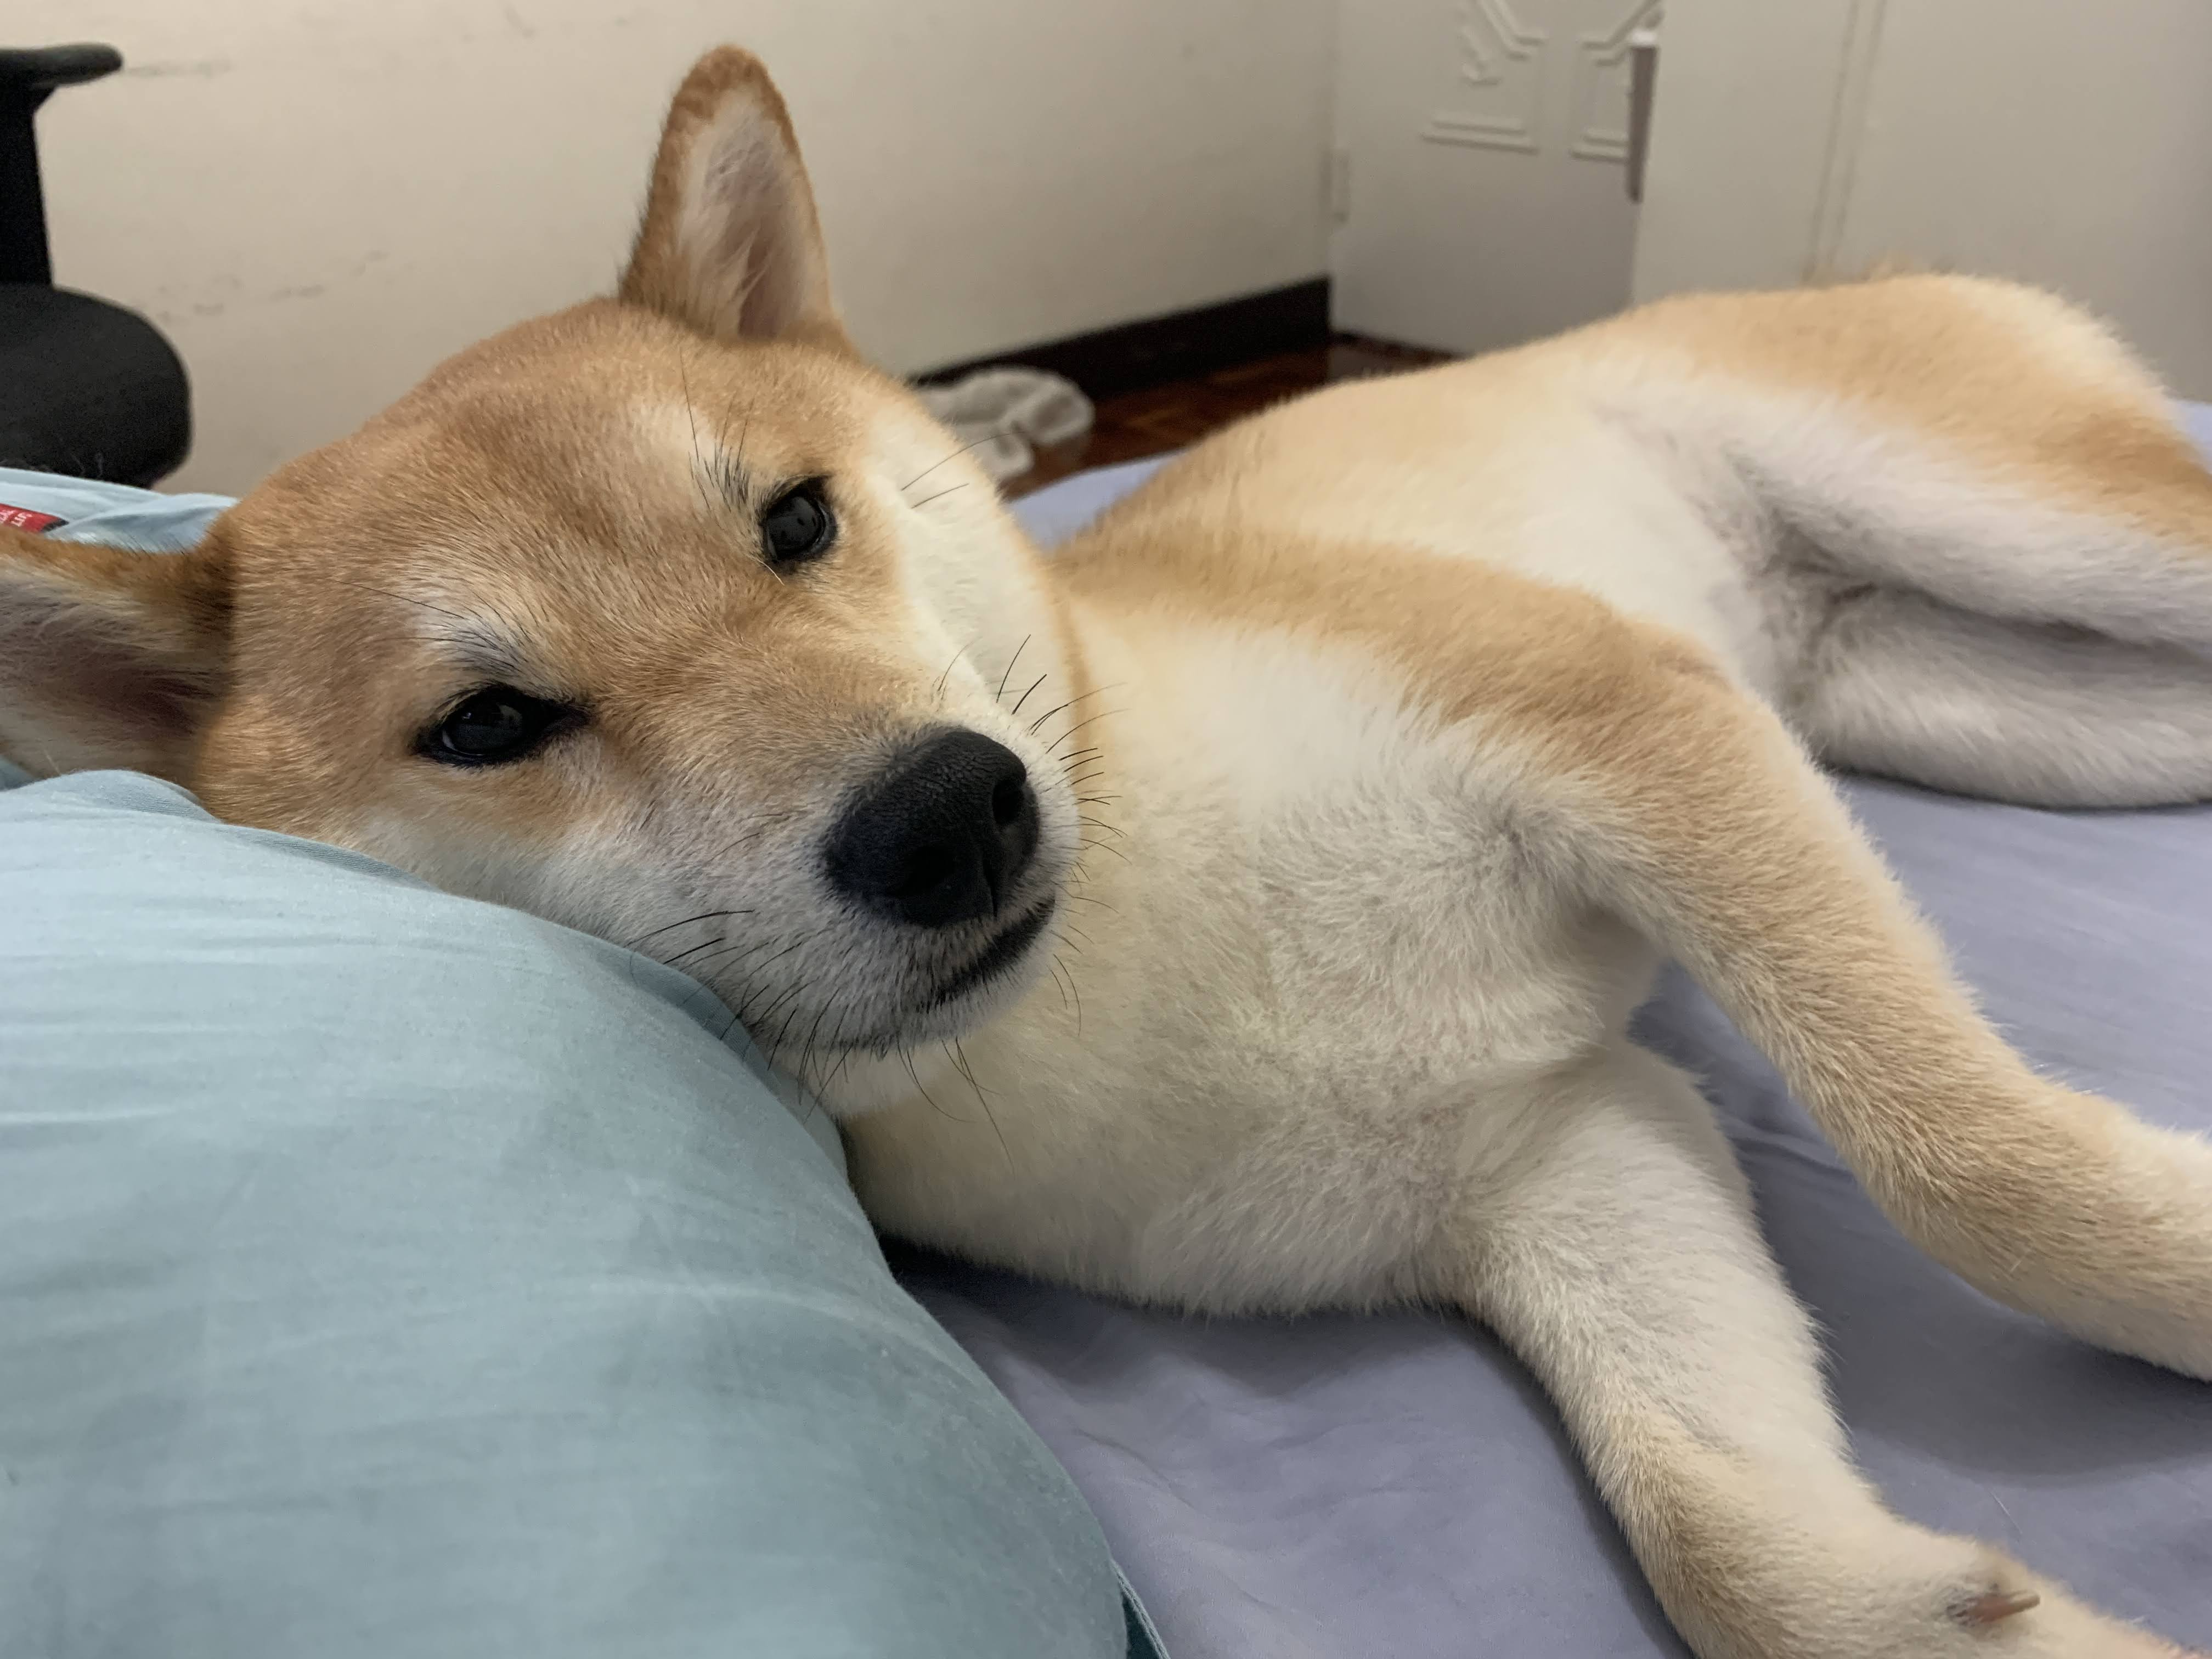Get down: (12, 63, 2212, 1629)
